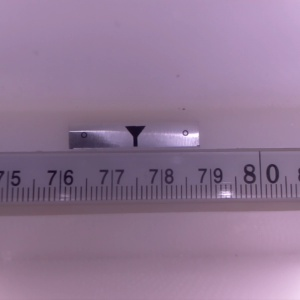0: (264, 164, 279, 183)
5: (10, 170, 21, 186)
6: (63, 169, 74, 186)
7: (46, 170, 57, 186), (98, 169, 108, 185), (148, 168, 158, 184), (114, 169, 124, 185), (197, 168, 206, 184), (0, 170, 6, 186)
8: (243, 164, 256, 184), (164, 168, 174, 184)
9: (213, 168, 223, 183)
finger: (123, 126, 146, 147)
